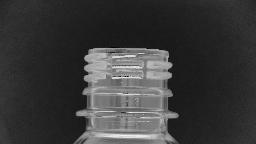No Cap: (70, 41, 186, 123)
